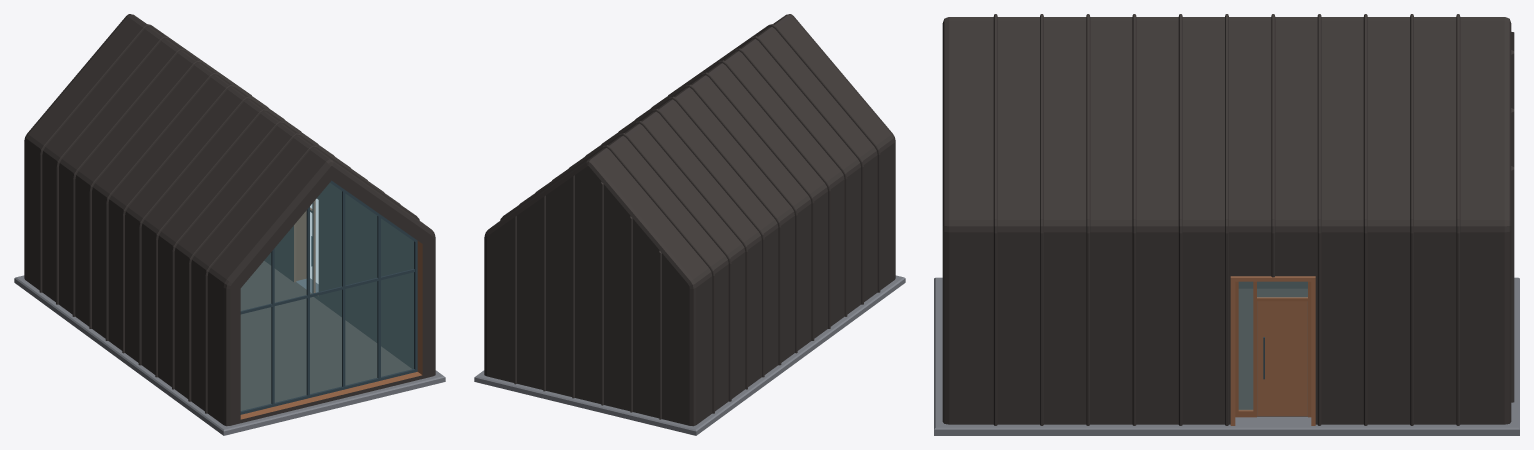
The model's file is modern-gable-house-ea0247.glb.
3 views of the same model, side by side, from view 1: azimuth 30°, elevation 25°; view 2: azimuth 150°, elevation 25°; view 3: azimuth 270°, elevation 25° (orthographic). The views are drawn at different scales.
Parts seen in each view (by area): view 1: house, glass; view 2: house; view 3: house, door-leaf, glass.
Part boxes in pixels (<box>): house: <box>14,14,445,435</box>; glass: <box>240,183,413,410</box>; house: <box>474,14,905,435</box>; house: <box>934,14,1519,435</box>; door-leaf: <box>1257,301,1307,415</box>; glass: <box>1238,281,1307,410</box>.
Size of the model in its own units: 6.3 by 6.72 by 10.3.
